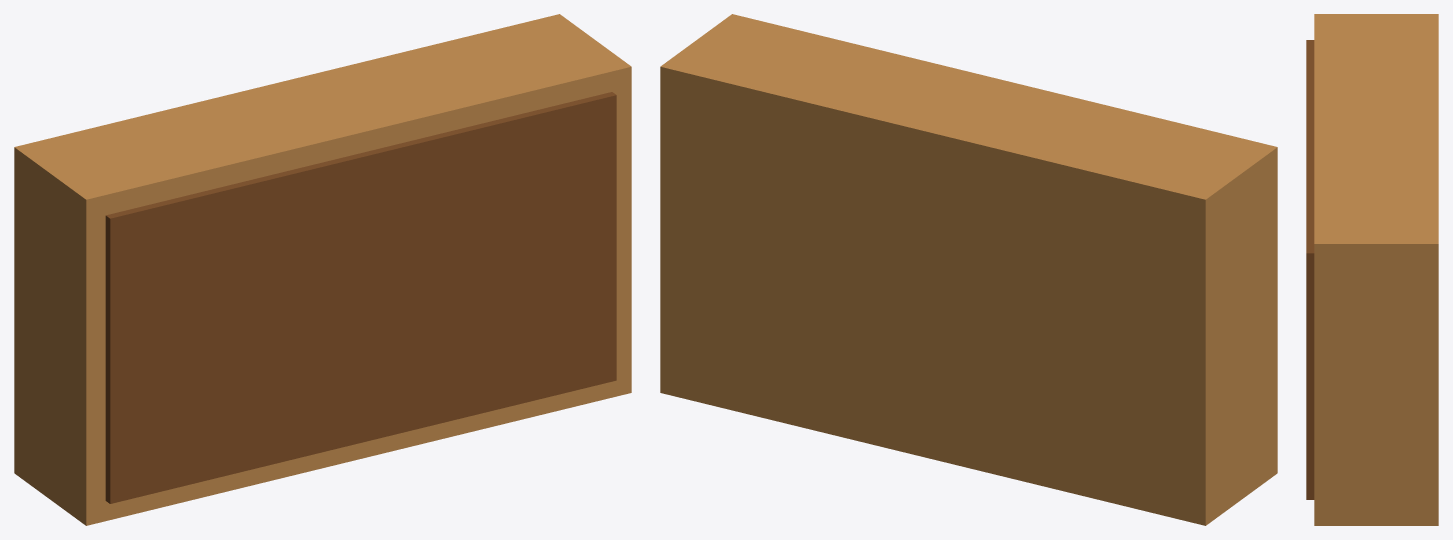
File: bookshelf_low.fbx
3 views of the same model, side by side, from view 1: azimuth 30°, elevation 25°; view 2: azimuth 150°, elevation 25°; view 3: azimuth 270°, elevation 25° (orthographic). The views are drawn at different scales.
Visible parts, largest first — view 1: bookshelf_low; view 2: bookshelf_low; view 3: bookshelf_low.
Boxes of the visible parts, x1,y1,x2,y2 form: bookshelf_low: (14,14,631,525); bookshelf_low: (660,14,1277,525); bookshelf_low: (1306,14,1438,525).
Size of the model in its own units: 1.4 by 0.8 by 0.34.
